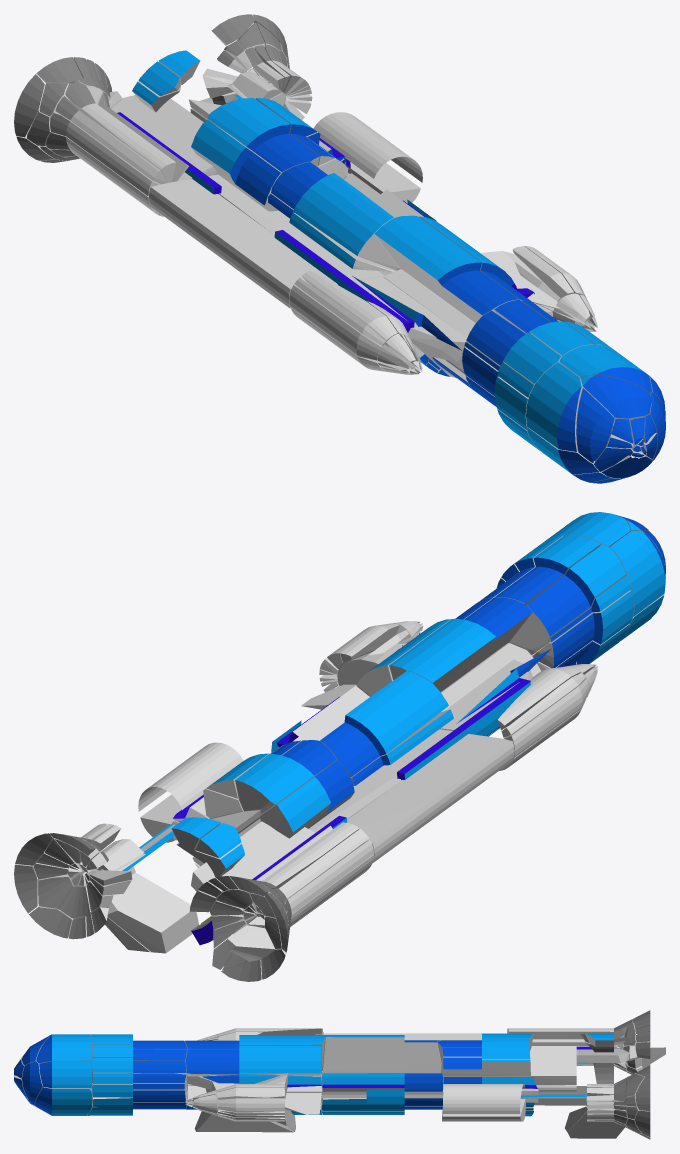
File: Rocket4Broken.fbx
3 renders of one model, top to bottom at view 1: azimuth 30°, elevation 25°; view 2: azimuth 150°, elevation 25°; view 3: azimuth 270°, elevation 25°, orthographic. The views are drawn at different scales.
Parts seen in each view (by area): view 1: Cylinder.002_cell.201, Cylinder.006_cell.077, Cylinder.006_cell.049, Cylinder.006_cell.057, Cylinder.006_cell.052, Cylinder.006_cell.043, Cylinder.006_cell.041, Cylinder.001_cell.160, Cylinder.002_cell.126, Cylinder.002_cell.063, Cylinder.002_cell.185, Cylinder.002_cell.060 (+31 smaller); view 2: Cylinder.002_cell.201, Cylinder.006_cell.049, Cylinder.006_cell.077, Cylinder.006_cell.041, Cylinder.001_cell.038, Cylinder.006_cell.057, Cylinder.006_cell.052, Cylinder.001_cell.160, Cylinder.002_cell.126, Cylinder.006_cell.031, Cylinder.006_cell.023, Cylinder.006_cell.043 (+36 smaller); view 3: Cylinder.006_cell.049, Cylinder.006_cell.008, Cylinder.001_cell.160, Cylinder.006_cell.063, Cylinder.006_cell.139, Cylinder.006_cell.077, Cylinder.006_cell, Cylinder.006_cell.065, Cylinder.006_cell.068, Cylinder.006_cell.175, Cylinder.006_cell.032, Cylinder.006_cell.075 (+51 smaller).
Boxes of the visible parts, box(x1,y1,x2,y2) form: Cylinder.002_cell.201: box(149, 179, 337, 308); Cylinder.006_cell.077: box(374, 215, 518, 322); Cylinder.006_cell.049: box(271, 162, 401, 270); Cylinder.006_cell.057: box(208, 98, 319, 172); Cylinder.006_cell.052: box(191, 119, 281, 211); Cylinder.006_cell.043: box(526, 362, 583, 451); Cylinder.006_cell.041: box(466, 310, 561, 385); Cylinder.001_cell.160: box(313, 112, 422, 182); Cylinder.002_cell.126: box(111, 95, 216, 181); Cylinder.002_cell.063: box(353, 276, 466, 378); Cylinder.002_cell.185: box(208, 174, 384, 280); Cylinder.002_cell.060: box(65, 81, 176, 182); Cylinder.002_cell.201: box(347, 734, 514, 862); Cylinder.006_cell.049: box(320, 671, 448, 777); Cylinder.006_cell.077: box(389, 597, 532, 691); Cylinder.006_cell.041: box(508, 544, 626, 655); Cylinder.001_cell.038: box(107, 872, 198, 953); Cylinder.006_cell.057: box(235, 740, 336, 814); Cylinder.006_cell.052: box(259, 760, 354, 838); Cylinder.001_cell.160: box(138, 742, 243, 811); Cylinder.002_cell.126: box(191, 821, 315, 891); Cylinder.006_cell.031: box(532, 590, 634, 668); Cylinder.006_cell.023: box(494, 535, 600, 604); Cylinder.006_cell.043: box(610, 530, 665, 616); Cylinder.006_cell.049: box(322, 1035, 441, 1073); Cylinder.006_cell.008: box(186, 1045, 321, 1075); Cylinder.001_cell.160: box(443, 1084, 525, 1113); Cylinder.006_cell.063: box(322, 1073, 443, 1091); Cylinder.006_cell.139: box(441, 1054, 530, 1080); Cylinder.006_cell.077: box(185, 1035, 324, 1070); Cylinder.006_cell: box(35, 1087, 92, 1115); Cylinder.006_cell.065: box(36, 1034, 91, 1069); Cylinder.006_cell.068: box(39, 1061, 91, 1088); Cylinder.006_cell.175: box(529, 1046, 576, 1075); Cylinder.006_cell.032: box(91, 1058, 186, 1073); Cylinder.006_cell.075: box(187, 1075, 321, 1114).
Bounding box in the file's own units: 0.6518 × 0.2989 × 2.07.
